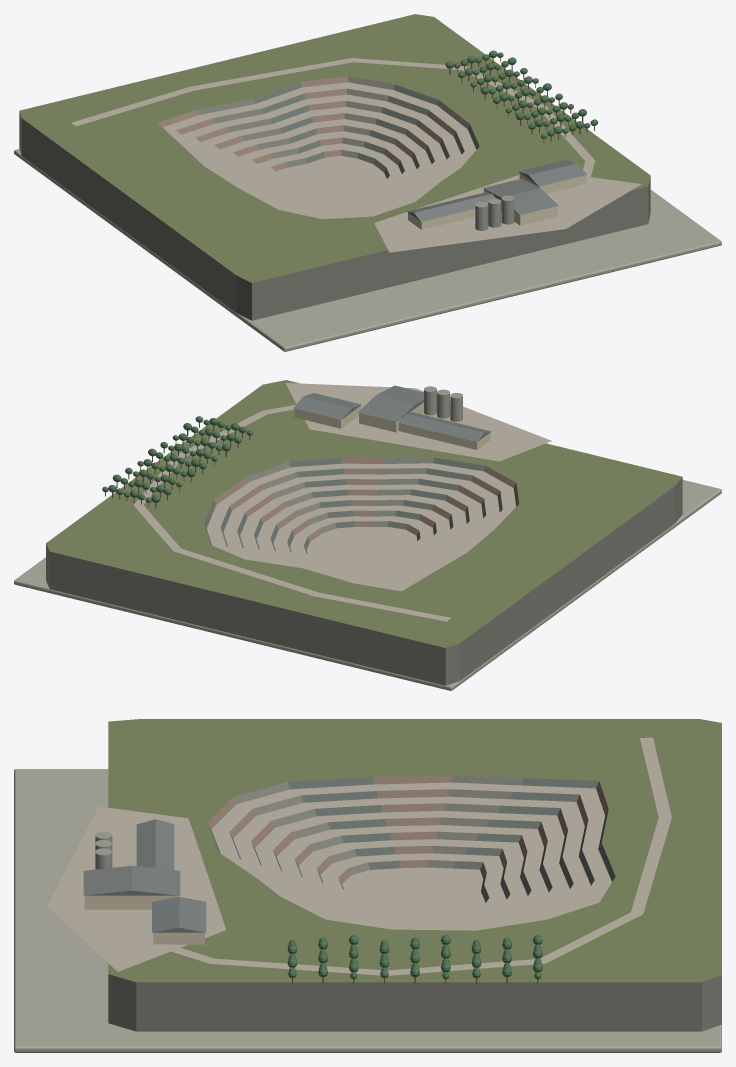
File: gms-34.glb
3 renders of one model, top to bottom at view 1: azimuth 30°, elevation 25°; view 2: azimuth 150°, elevation 25°; view 3: azimuth 270°, elevation 25°, orthographic. The views are drawn at different scales.
Parts seen in each view (by area): view 1: Grassy quarry rim, Mina Verdun open benched pit, Solid quarry diorama sides, Context plinth, South cement works hardstand, Cement works shallow roof, Broadleaf canopy, Low cement works nave, South cement works silo, Native trunk; view 2: Grassy quarry rim, Mina Verdun open benched pit, Solid quarry diorama sides, South cement works hardstand, Context plinth, Cement works shallow roof, Broadleaf canopy, Low cement works nave, South cement works silo, Native trunk; view 3: Grassy quarry rim, Mina Verdun open benched pit, Context plinth, Solid quarry diorama sides, South cement works hardstand, Cement works shallow roof, Broadleaf canopy, Low cement works nave, South cement works silo.
Boxes of the visible parts, box(x1,y1,x2,y2) form: Grassy quarry rim: box(19, 14, 650, 282); Mina Verdun open benched pit: box(157, 76, 479, 219); Solid quarry diorama sides: box(19, 111, 650, 320); Context plinth: box(14, 149, 721, 351); South cement works hardstand: box(71, 58, 641, 252); Cement works shallow roof: box(407, 159, 587, 221); Broadleaf canopy: box(445, 50, 598, 138); Low cement works nave: box(408, 173, 586, 229); South cement works silo: box(475, 195, 514, 230); Native trunk: box(449, 58, 594, 142); Grassy quarry rim: box(46, 380, 682, 647); Mina Verdun open benched pit: box(204, 457, 518, 591); Solid quarry diorama sides: box(46, 477, 682, 685); South cement works hardstand: box(133, 383, 551, 621); Context plinth: box(14, 480, 721, 690); Cement works shallow roof: box(293, 385, 491, 441); Broadleaf canopy: box(102, 416, 252, 502); Low cement works nave: box(294, 402, 490, 449); South cement works silo: box(424, 386, 462, 421); Native trunk: box(105, 422, 250, 508); Grassy quarry rim: box(108, 719, 721, 982); Mina Verdun open benched pit: box(207, 775, 615, 930); Context plinth: box(14, 769, 721, 1052); Solid quarry diorama sides: box(108, 974, 721, 1031); South cement works hardstand: box(47, 737, 671, 975); Cement works shallow roof: box(83, 819, 206, 932); Broadleaf canopy: box(287, 935, 542, 979); Low cement works nave: box(84, 895, 204, 944); South cement works silo: box(95, 831, 112, 869).
Size of the model in its own units: 14 by 2.03 by 15.
